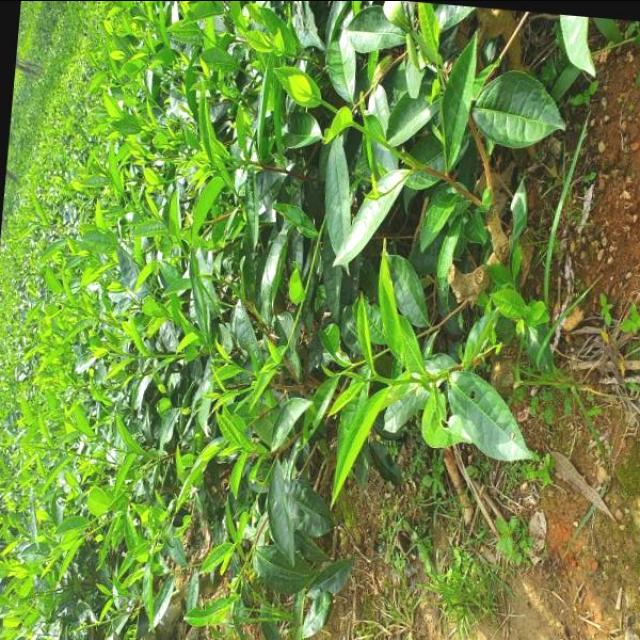Stem: (375, 375, 382, 380)
